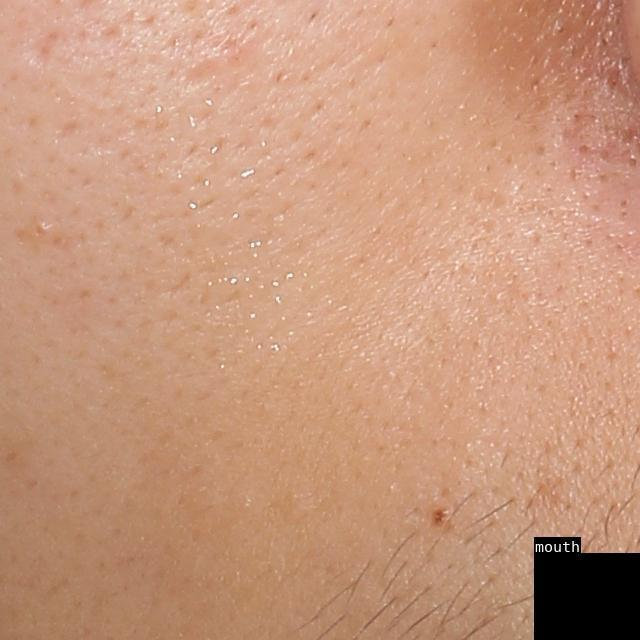atrophic_scar: (175, 52, 241, 97), (29, 31, 61, 69)
nevus: (431, 498, 455, 529)
